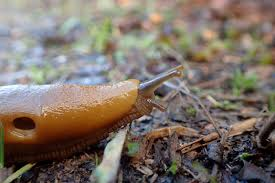slug: (1, 59, 187, 165)
